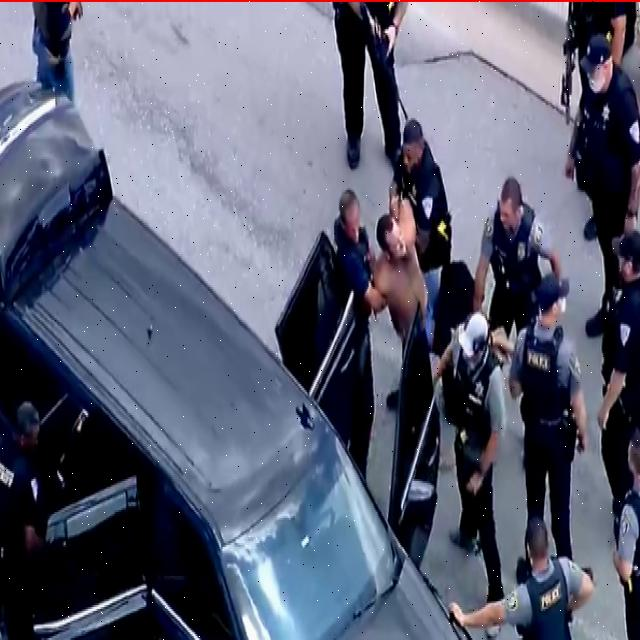police: (510, 272, 594, 536), (437, 311, 508, 584), (565, 33, 640, 291), (442, 518, 599, 640), (328, 173, 378, 489), (584, 235, 640, 512), (468, 172, 550, 354), (395, 104, 458, 274), (597, 426, 640, 640)
